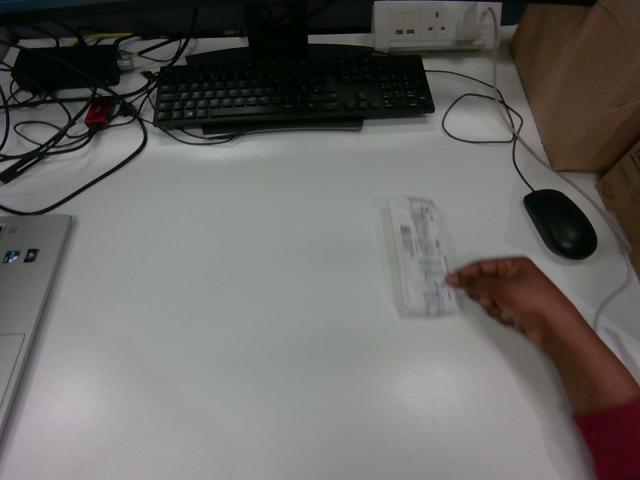syringe: (389, 197, 457, 316)
